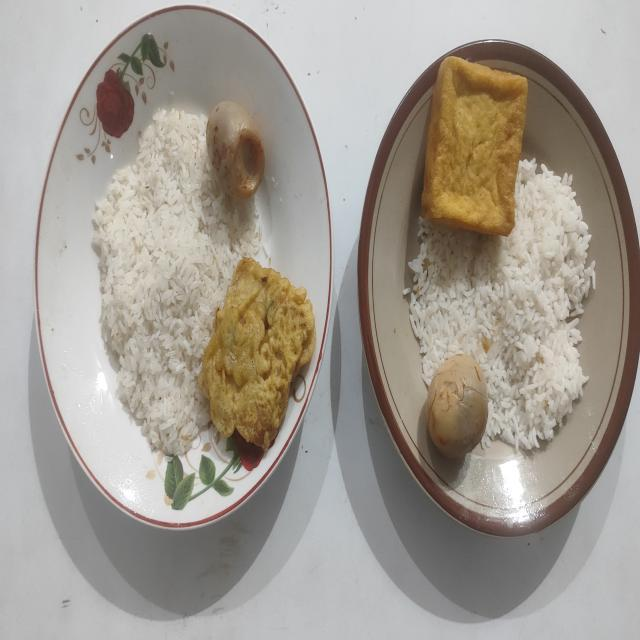nasi_putih: (93, 109, 261, 455), (409, 158, 595, 450)
tahu_goreng: (422, 57, 528, 235)
